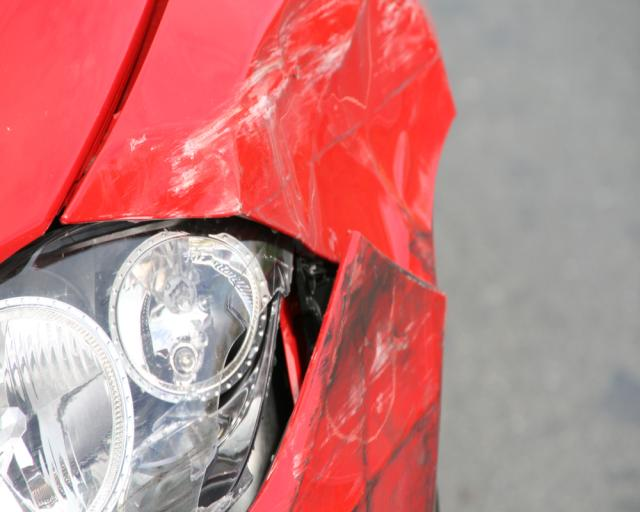lamp broken: (0, 217, 337, 512)
scratch: (137, 0, 428, 233), (268, 237, 446, 512)
